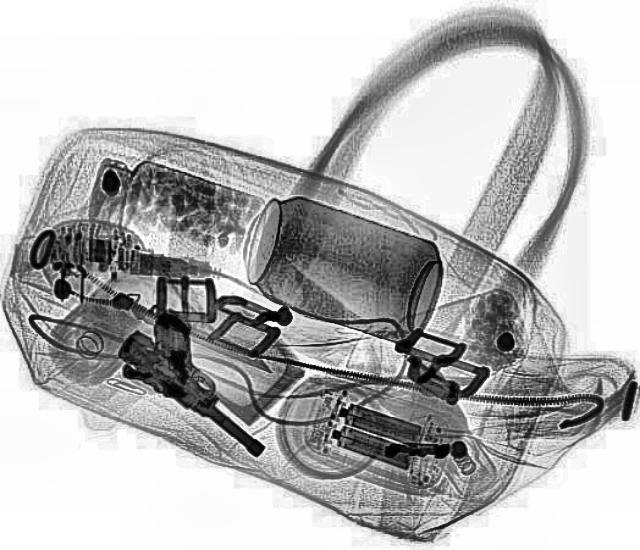Gun: (104, 306, 302, 464)
